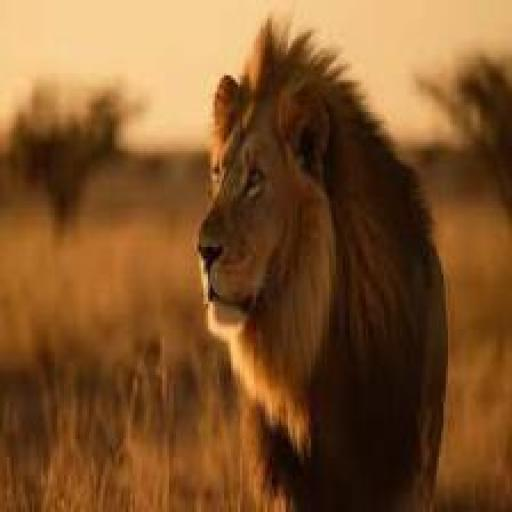lion: (167, 14, 456, 500)
